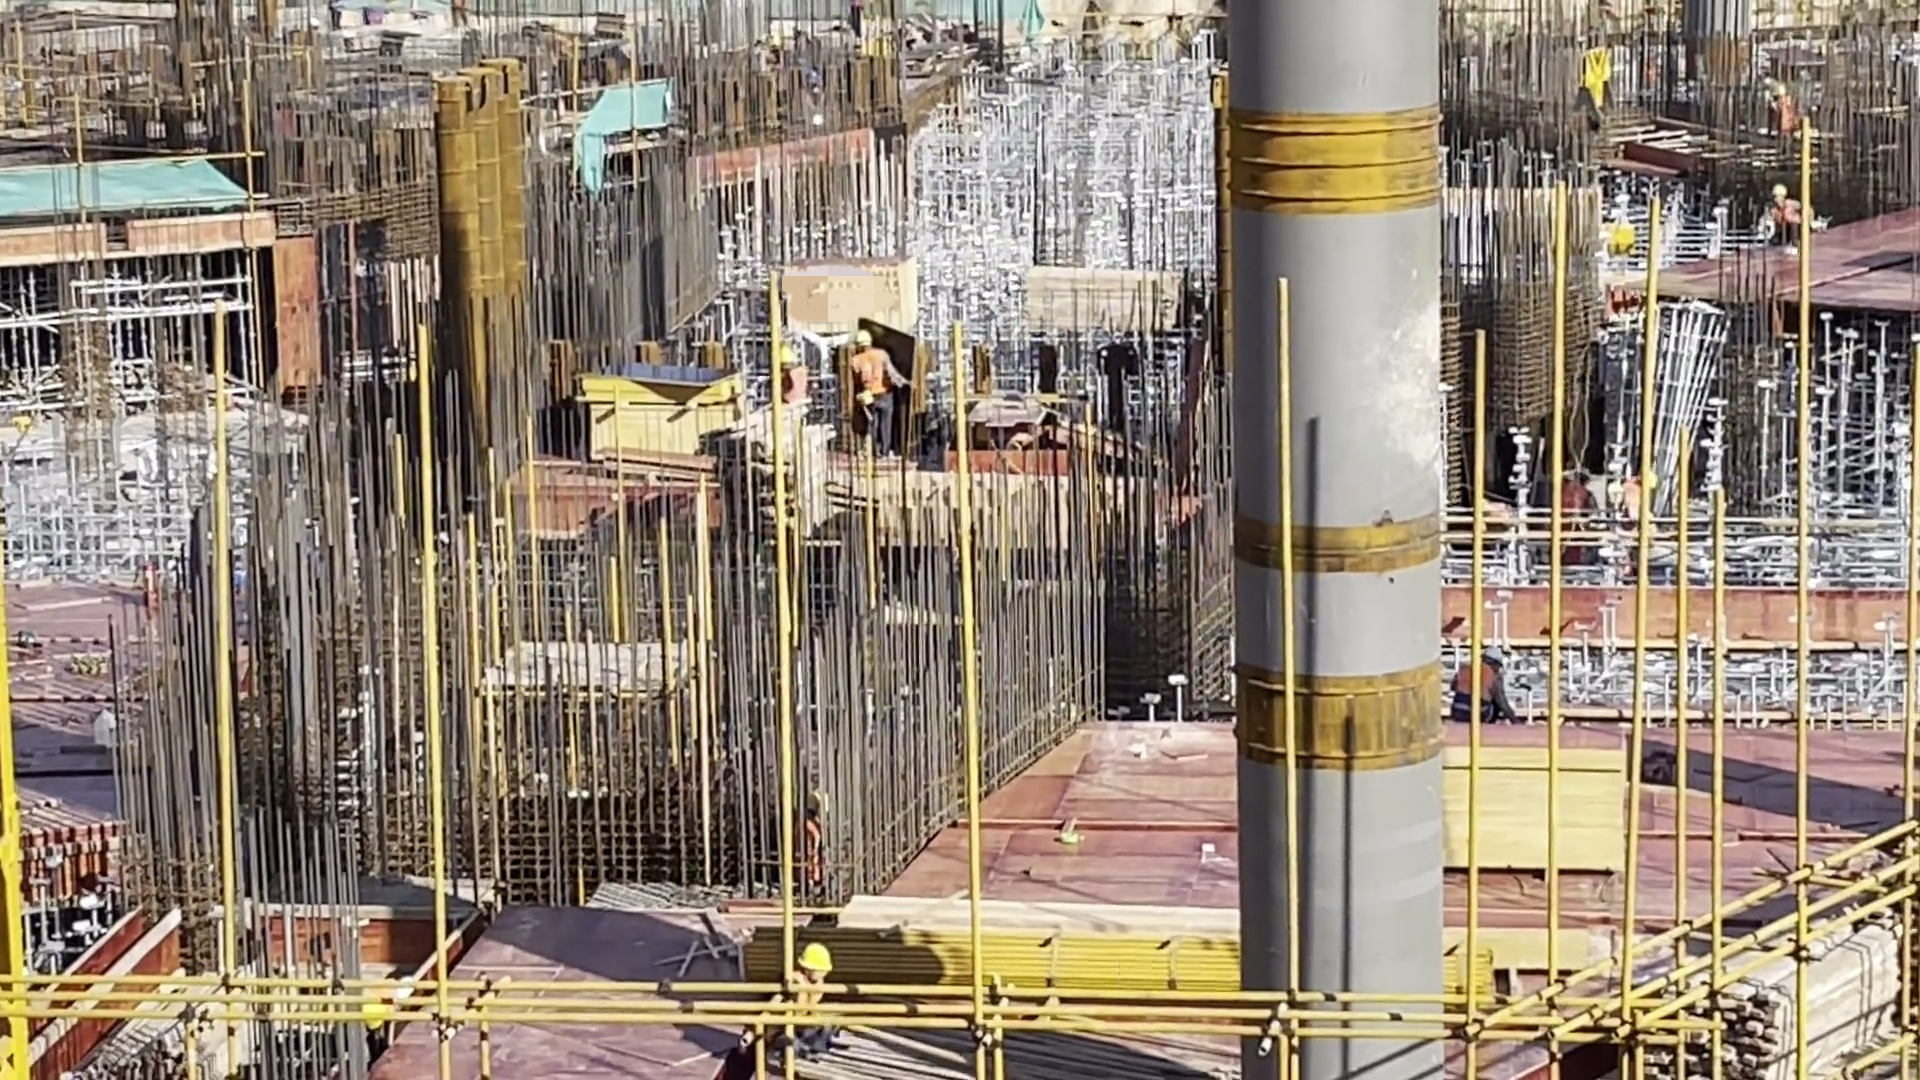board: (1434, 727, 1628, 884), (1029, 274, 1183, 326)
helmet: (798, 786, 833, 819), (798, 944, 829, 971), (774, 347, 808, 366), (854, 331, 880, 351), (1772, 179, 1791, 198), (1772, 84, 1789, 100), (1609, 484, 1624, 500), (1574, 467, 1594, 479)
hook: (1568, 37, 1608, 127)
person: (766, 941, 846, 1056), (1454, 648, 1528, 725), (857, 321, 899, 455), (1759, 77, 1808, 166), (804, 786, 841, 903), (1555, 463, 1589, 558), (773, 346, 813, 414), (1764, 186, 1809, 239), (1622, 474, 1653, 524)
vest: (756, 981, 823, 1034), (1456, 666, 1492, 722), (866, 346, 894, 414), (803, 822, 829, 882), (1569, 493, 1588, 550), (1630, 483, 1655, 521), (1768, 97, 1795, 128), (786, 367, 806, 404), (1773, 205, 1798, 224)
wood: (736, 431, 858, 564)
